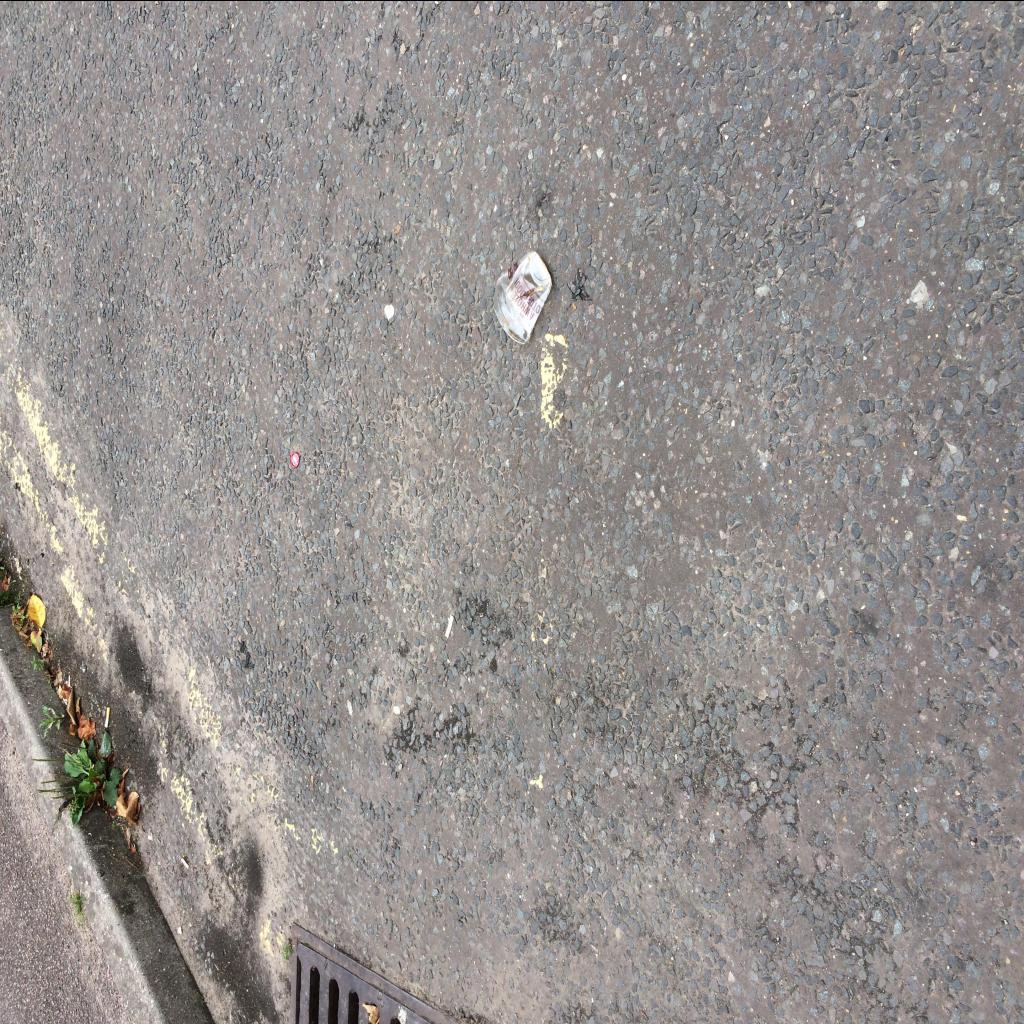Cigarette: (104, 707, 110, 727), (180, 858, 190, 870)
Disposable plastic cup: (493, 250, 552, 344)
Other plastic wrapper: (290, 451, 300, 467)
